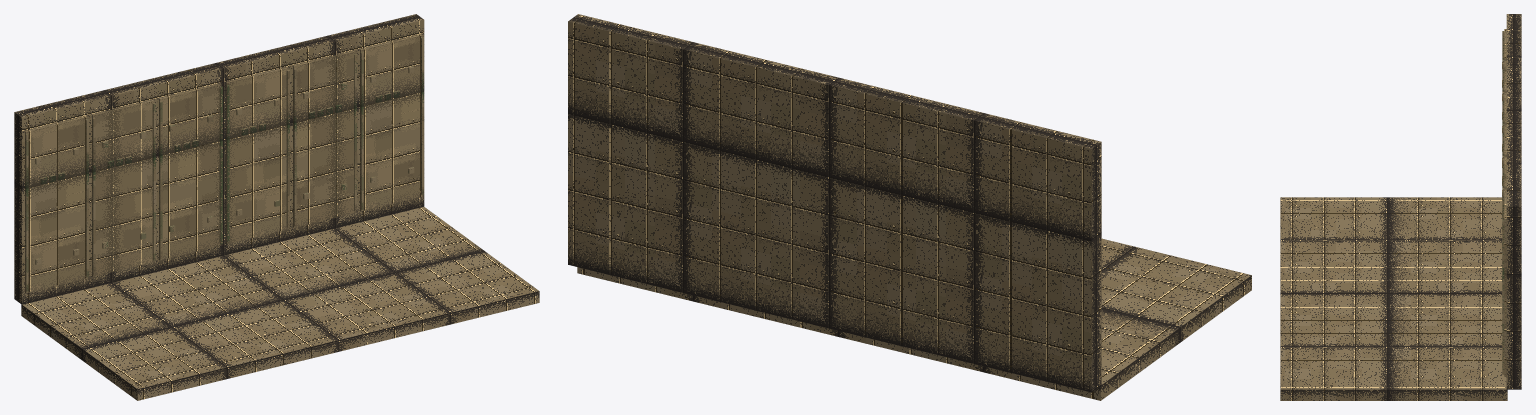
File: secret_repeated_motif.glb
The picture shows the model from 3 angles, left to right: view 1: azimuth 30°, elevation 25°; view 2: azimuth 150°, elevation 25°; view 3: azimuth 270°, elevation 25°; orthographic projection. The views are drawn at different scales.
Visible parts, largest first — view 1: secret_repeated_motif; view 2: secret_repeated_motif; view 3: secret_repeated_motif.
Part boxes in pixels (left/top/right/bottom): secret_repeated_motif: left=14, top=14, right=539, bottom=400; secret_repeated_motif: left=568, top=14, right=1251, bottom=400; secret_repeated_motif: left=1280, top=14, right=1521, bottom=400.
Bounding box in the file's own units: 7.2 × 3.4 × 3.82.
3 materials, 3 textured.
